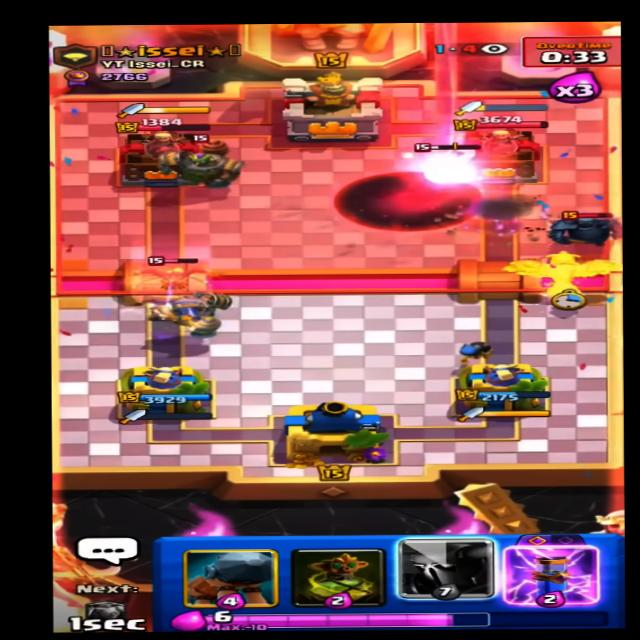goblin-demolisher: (419, 134, 496, 184)
goblin-machine: (157, 132, 263, 190)
pekka: (545, 195, 635, 250)
phoenix: (115, 250, 225, 296)
